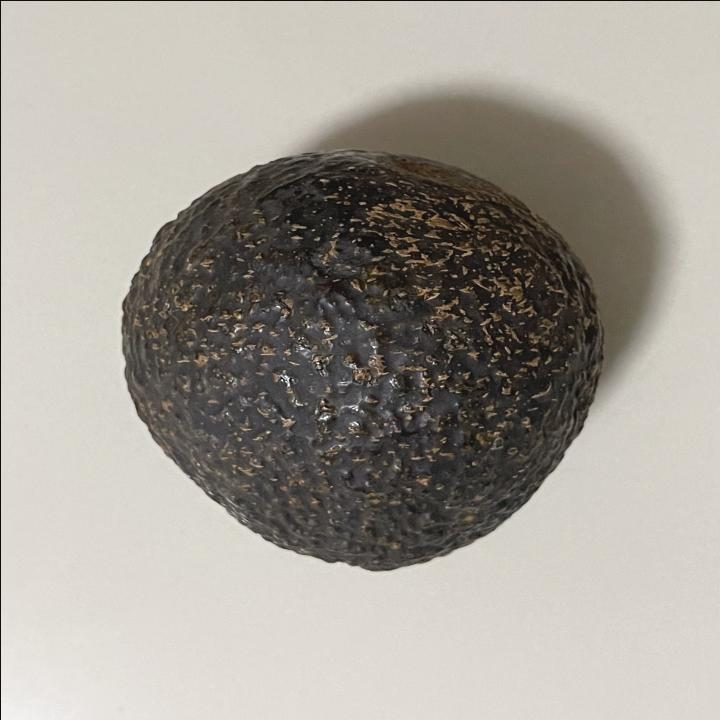Level3: (109, 139, 615, 581)
